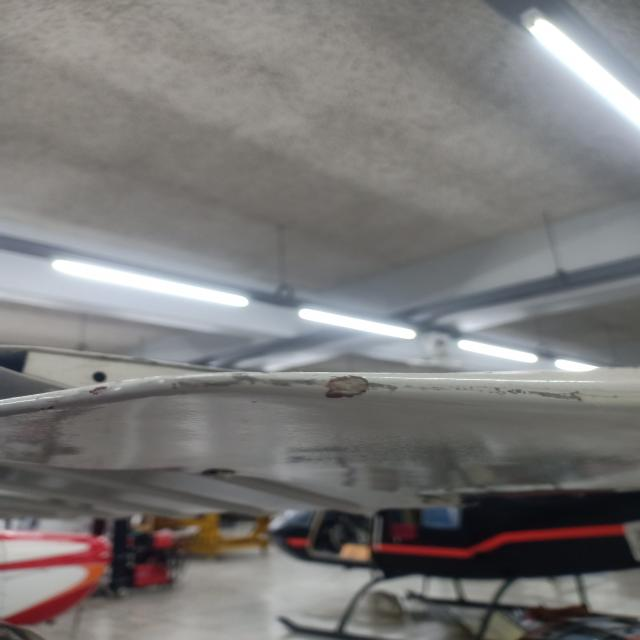Rupture: (207, 368, 586, 435)
